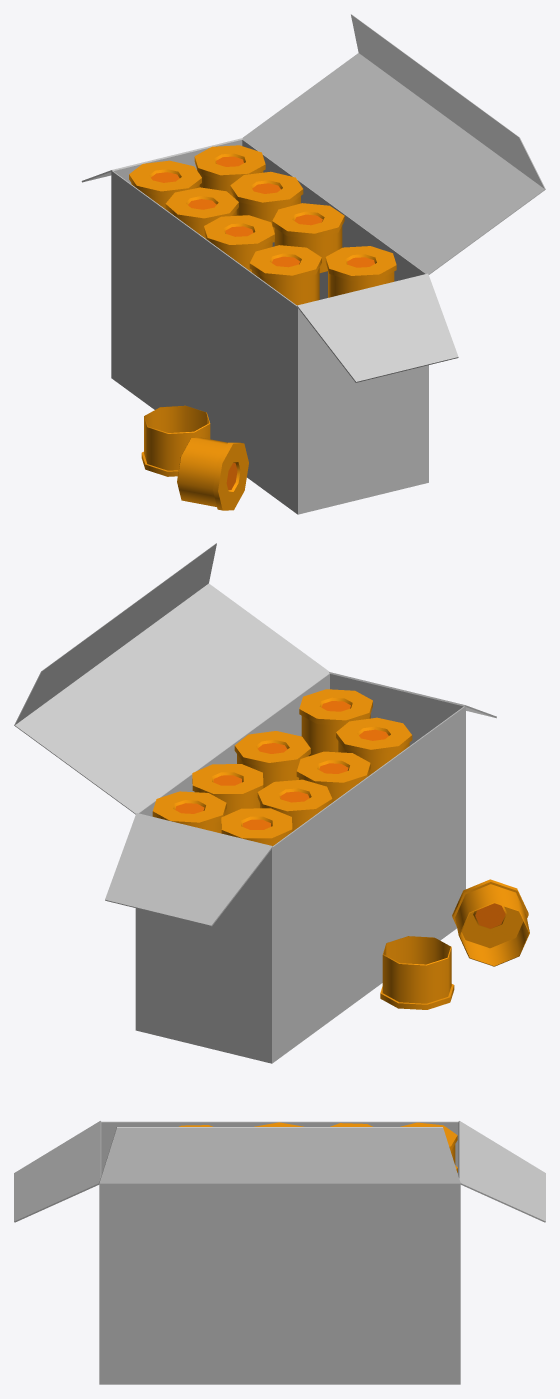
The model's file is Shotgun_S_Ammo.fbx.
3 renders of one model, top to bottom at view 1: azimuth 30°, elevation 25°; view 2: azimuth 150°, elevation 25°; view 3: azimuth 270°, elevation 25°, orthographic. The views are drawn at different scales.
Visible parts, largest first — view 1: Cube.002; view 2: Cube.002; view 3: Cube.002.
Part boxes in pixels (x1=…): Cube.002: x1=81, y1=14, x2=545, y2=514; Cube.002: x1=14, y1=543, x2=529, y2=1063; Cube.002: x1=14, y1=1121, x2=545, y2=1384.
Size of the model in its own units: 1.28 by 0.9005 by 1.43.
